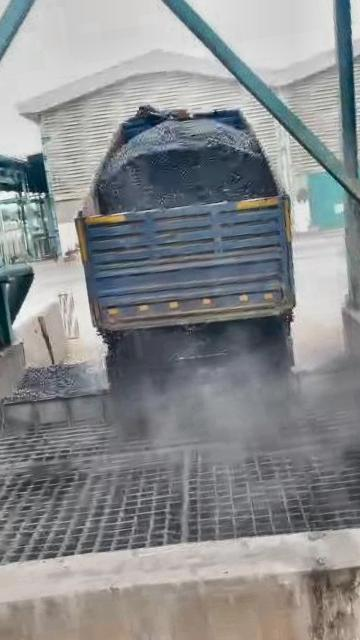gravel: (96, 113, 280, 214), (105, 318, 293, 399), (15, 363, 107, 401)
